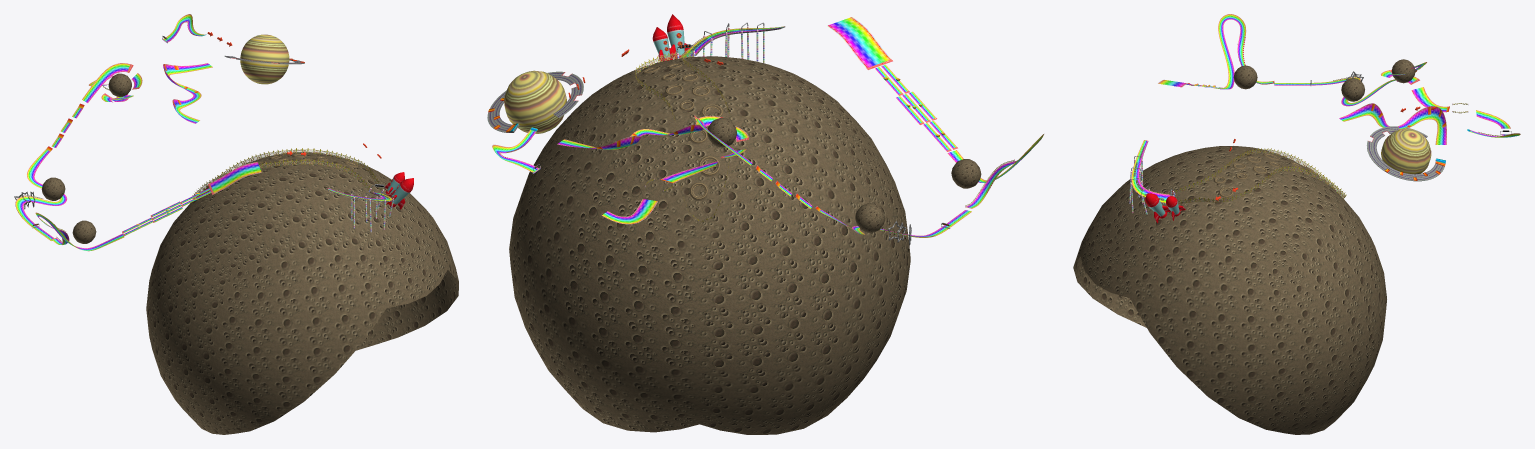
The model's file is Gctr_RainbowRoad.dae.
3 views of the same model, side by side, from view 1: azimuth 30°, elevation 25°; view 2: azimuth 150°, elevation 25°; view 3: azimuth 270°, elevation 25° (orthographic). The views are drawn at different scales.
Visible parts, largest first — view 1: mesh_rr_moon.001, mesh_rr_road02, mesh_rr_saturn, mesh_rr_fence, mesh_rr_pipe, mesh_rr_moon_side; view 2: mesh_rr_moon.001, mesh_rr_road02, mesh_rr_saturn, mesh_rr_moon_side, mesh_rr_fence, mesh_rr_beltA, mesh_rr_pipe, mesh_StarRing; view 3: mesh_rr_moon.001, mesh_rr_road02, mesh_rr_saturn, mesh_rr_fence, mesh_rr_moon_side.
Part boxes in pixels (bbox=[...]): mesh_rr_moon.001: bbox=[41, 73, 458, 434]; mesh_rr_road02: bbox=[15, 14, 392, 251]; mesh_rr_saturn: bbox=[224, 34, 413, 209]; mesh_rr_fence: bbox=[15, 28, 392, 241]; mesh_rr_pipe: bbox=[22, 25, 394, 237]; mesh_rr_moon_side: bbox=[206, 153, 358, 188]; mesh_rr_moon.001: bbox=[509, 56, 981, 434]; mesh_rr_road02: bbox=[492, 17, 1043, 237]; mesh_rr_saturn: bbox=[487, 14, 689, 133]; mesh_rr_moon_side: bbox=[642, 63, 723, 200]; mesh_rr_fence: bbox=[506, 37, 1013, 237]; mesh_rr_beltA: bbox=[489, 56, 1018, 228]; mesh_rr_pipe: bbox=[506, 26, 1014, 235]; mesh_StarRing: bbox=[533, 22, 949, 245]; mesh_rr_moon.001: bbox=[1073, 59, 1415, 434]; mesh_rr_road02: bbox=[1131, 14, 1520, 203]; mesh_rr_saturn: bbox=[1145, 126, 1444, 223]; mesh_rr_fence: bbox=[1143, 57, 1501, 204]; mesh_rr_moon_side: bbox=[1213, 153, 1334, 197].
Size of the model in its own units: 14178 by 13612 by 10227.
18 materials, 18 textured.
